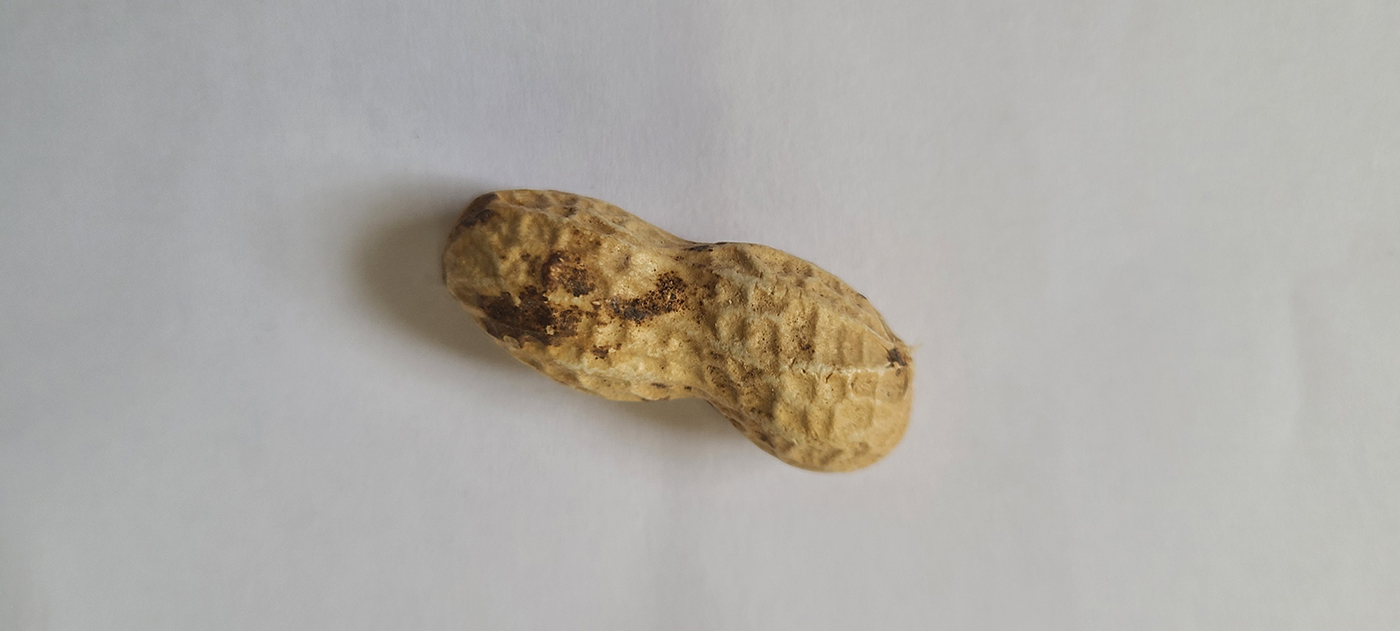h: (439, 187, 914, 476)
